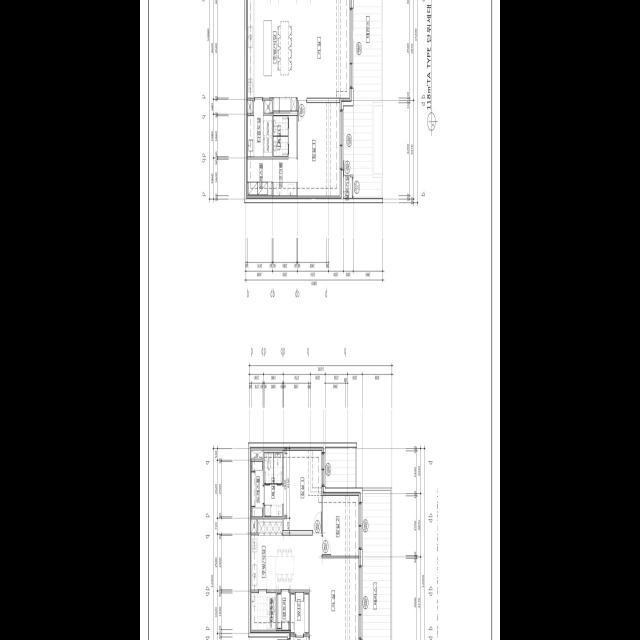background: (140, 0, 500, 640)
space_bedroom: (298, 102, 341, 195), (284, 447, 323, 530), (323, 495, 360, 555)
space_dressroom: (248, 158, 272, 195), (251, 461, 263, 516)
space_kitchen: (247, 0, 297, 110), (251, 519, 294, 589)
space_living_room: (294, 535, 360, 640), (297, 0, 351, 99)
space_other: (273, 115, 297, 195), (248, 101, 272, 156), (251, 592, 276, 630), (291, 591, 309, 634), (277, 592, 290, 630), (264, 100, 272, 112), (251, 450, 263, 458), (251, 518, 257, 532), (248, 100, 253, 113)
space_outdoor_room: (343, 177, 352, 197)
space_toilet: (264, 452, 283, 516), (273, 115, 288, 156)
